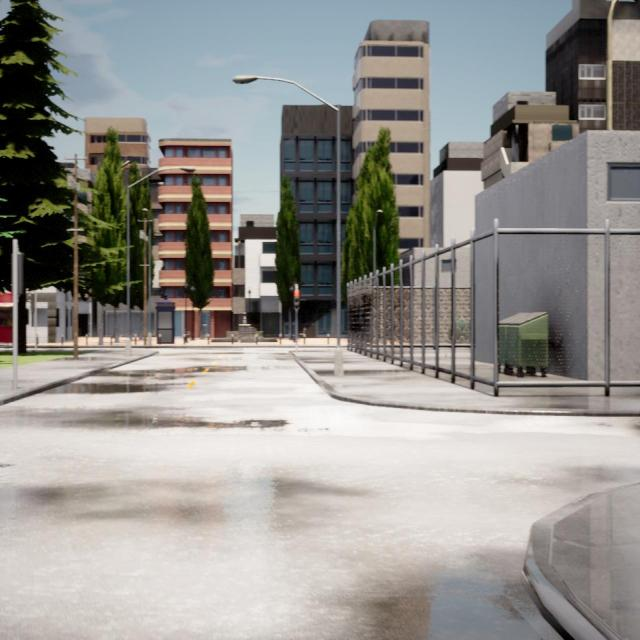traffic_light: (18, 252, 24, 295), (294, 290, 300, 309), (29, 294, 34, 310)
